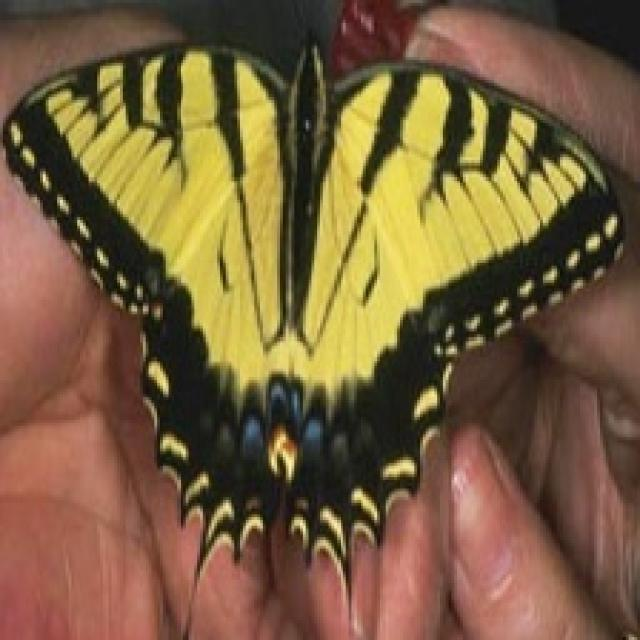butterfly: (0, 26, 629, 603)
